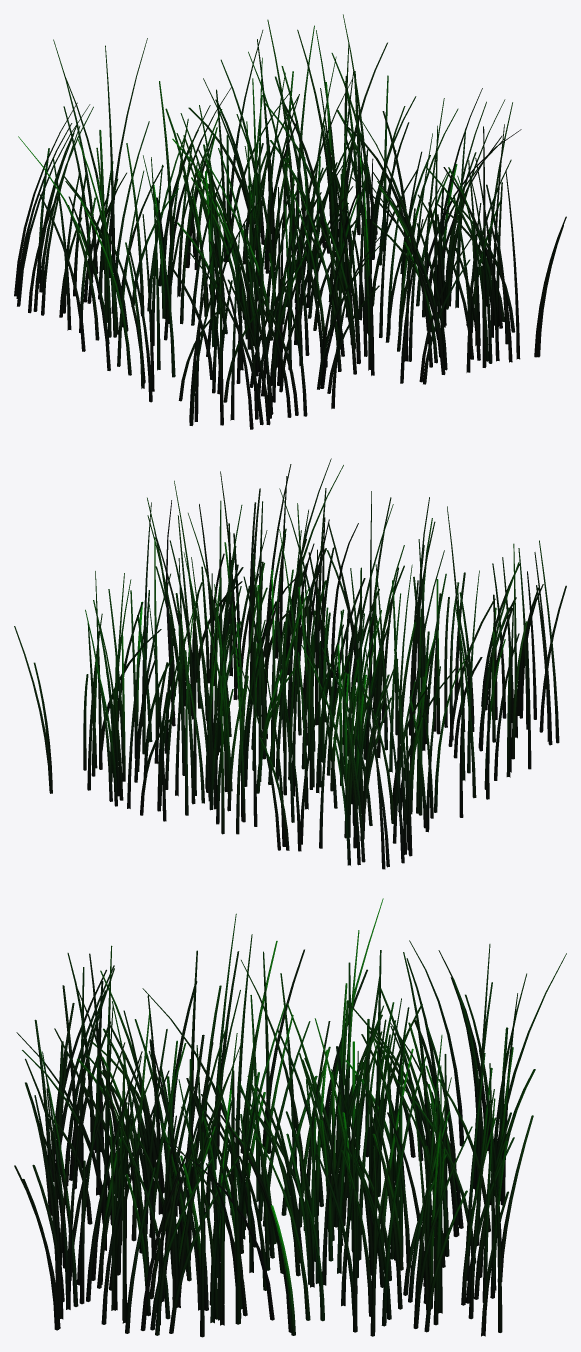
Rendered from GrassSimple.FBX.
3 renders of one model, top to bottom at view 1: azimuth 30°, elevation 25°; view 2: azimuth 150°, elevation 25°; view 3: azimuth 270°, elevation 25°, orthographic. The views are drawn at different scales.
Parts seen in each view (by area): view 1: Object001; view 2: Object001; view 3: Object001.
Boxes of the visible parts, <box> form: Object001: <box>14,14,566,429</box>; Object001: <box>14,458,566,869</box>; Object001: <box>14,898,566,1337</box>.
Bounding box in the file's own units: 35.64 × 17.81 × 36.47.
